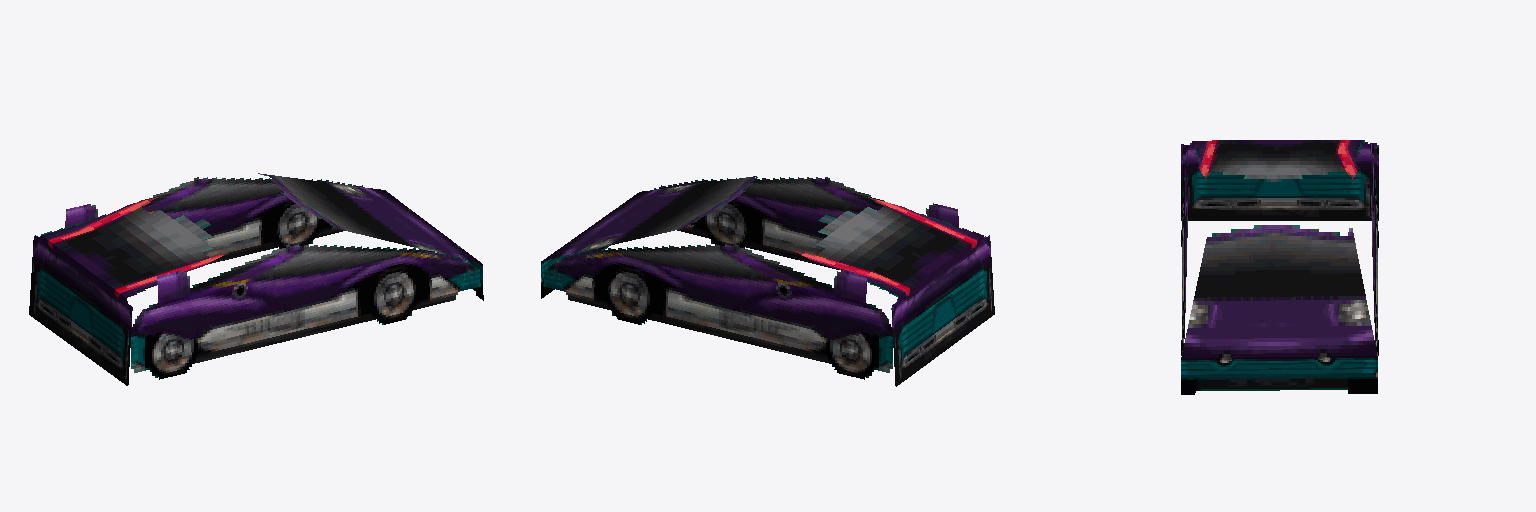
3 renders of one model, left to right at view 1: azimuth 30°, elevation 25°; view 2: azimuth 150°, elevation 25°; view 3: azimuth 270°, elevation 25°, orthographic.
Size of the model in its own units: 665 by 185 by 321.
1 materials, 1 textured.